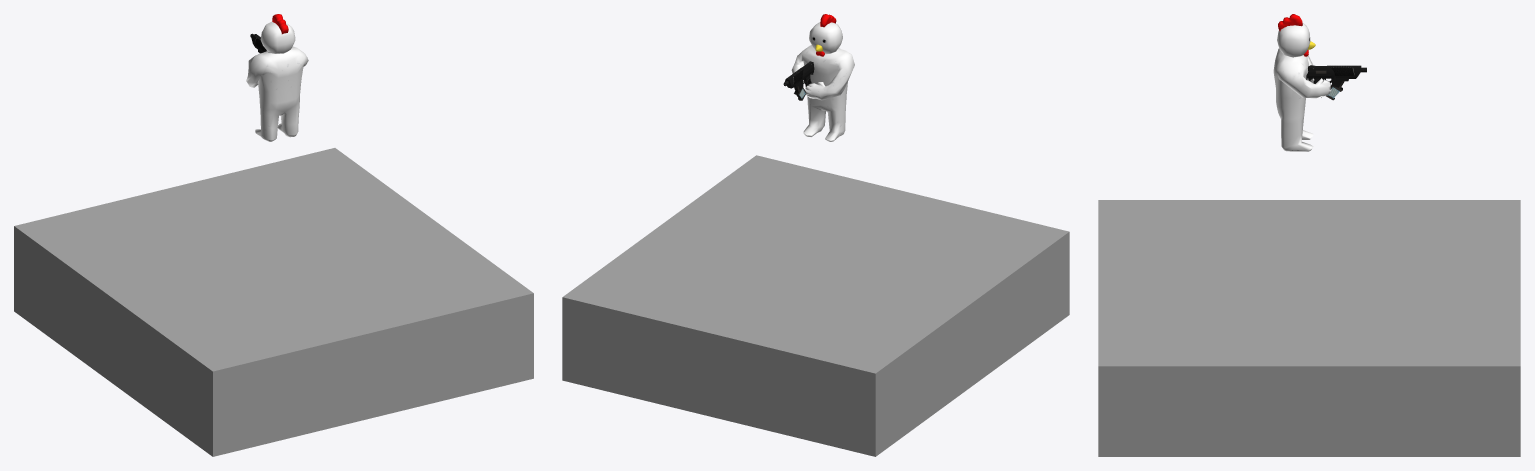
Rendered from Genepool_Chicken_Pose.fbx.
3 renders of one model, left to right at view 1: azimuth 30°, elevation 25°; view 2: azimuth 150°, elevation 25°; view 3: azimuth 270°, elevation 25°, orthographic. The views are drawn at different scales.
Visible parts, largest first — view 1: pCube9, polySurface9; view 2: pCube9, polySurface9, AssaultRifle:polySurface36; view 3: pCube9, polySurface9, AssaultRifle:polySurface36.
Part boxes in pixels (x1,y1,x2,y2): pCube9: [14, 148, 533, 456]; polySurface9: [246, 14, 308, 141]; pCube9: [562, 155, 1069, 456]; polySurface9: [791, 14, 854, 141]; AssaultRifle:polySurface36: [783, 61, 814, 100]; pCube9: [1098, 200, 1520, 456]; polySurface9: [1273, 14, 1331, 151]; AssaultRifle:polySurface36: [1306, 65, 1366, 100].
Bounding box in the file's own units: 116 × 117 × 125.
